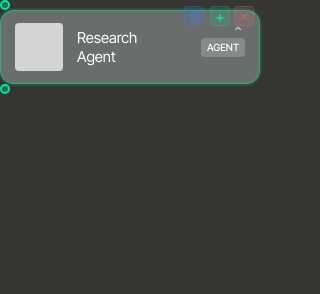
Test: AgentNode Visual Tests › Selected State Appearance › should render all content when selected
Step 1. Click the button named "Expand node" → (238, 32), box [227, 21, 249, 43]
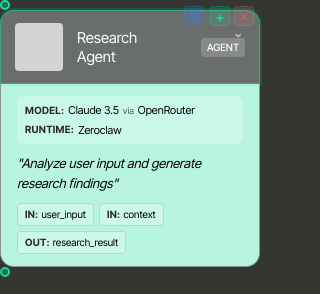
Expected: the text "Research Agent" is shown, [77, 28, 137, 66]
Expected: the text "Claude 3.5" is shown, [68, 102, 119, 118]
